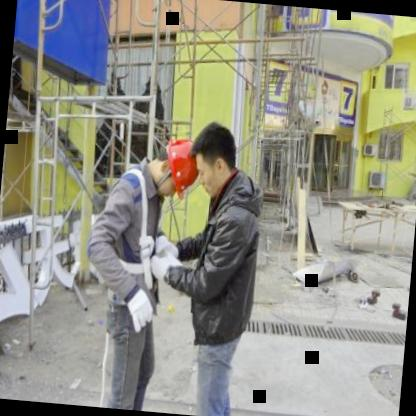head: (189, 117, 246, 204)
helmet: (156, 135, 200, 201)
